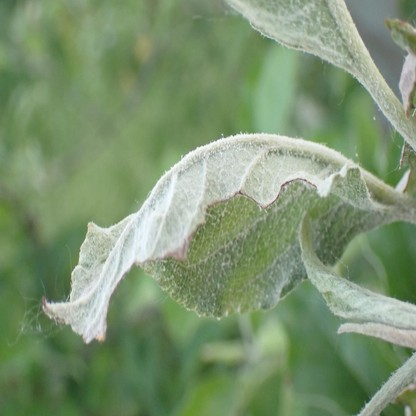powder: (43, 133, 416, 344), (301, 211, 416, 345), (224, 0, 355, 67), (399, 55, 416, 119)
